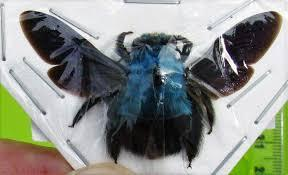Xylocopa: (20, 0, 272, 167)
